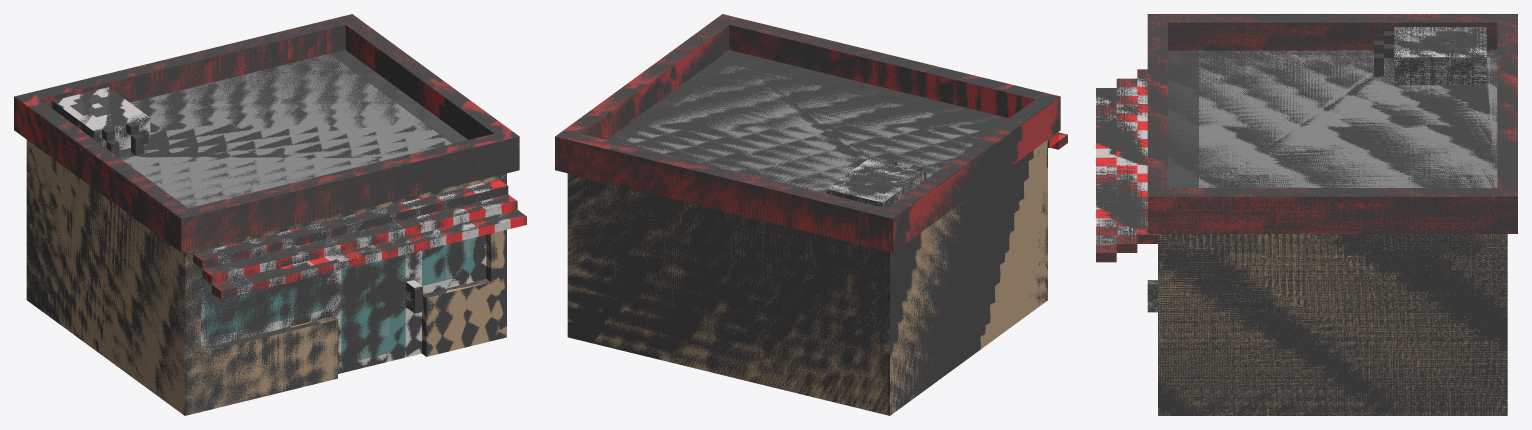
The model's file is store_red.fbx.
3 renders of one model, left to right at view 1: azimuth 30°, elevation 25°; view 2: azimuth 150°, elevation 25°; view 3: azimuth 270°, elevation 25°, orthographic. The views are drawn at different scales.
Parts seen in each view (by area): view 1: store_red_5, store_red_5_Backup; view 2: store_red_5, store_red_5_Backup; view 3: store_red_5, store_red_5_Backup.
Boxes of the visible parts, x1,y1,x2,y2 form: store_red_5: (14,14,526,415); store_red_5_Backup: (14,14,526,415); store_red_5: (555,14,1067,415); store_red_5_Backup: (555,14,1067,415); store_red_5: (1096,14,1517,415); store_red_5_Backup: (1096,14,1517,415).
Size of the model in its own units: 420 by 240 by 410.
